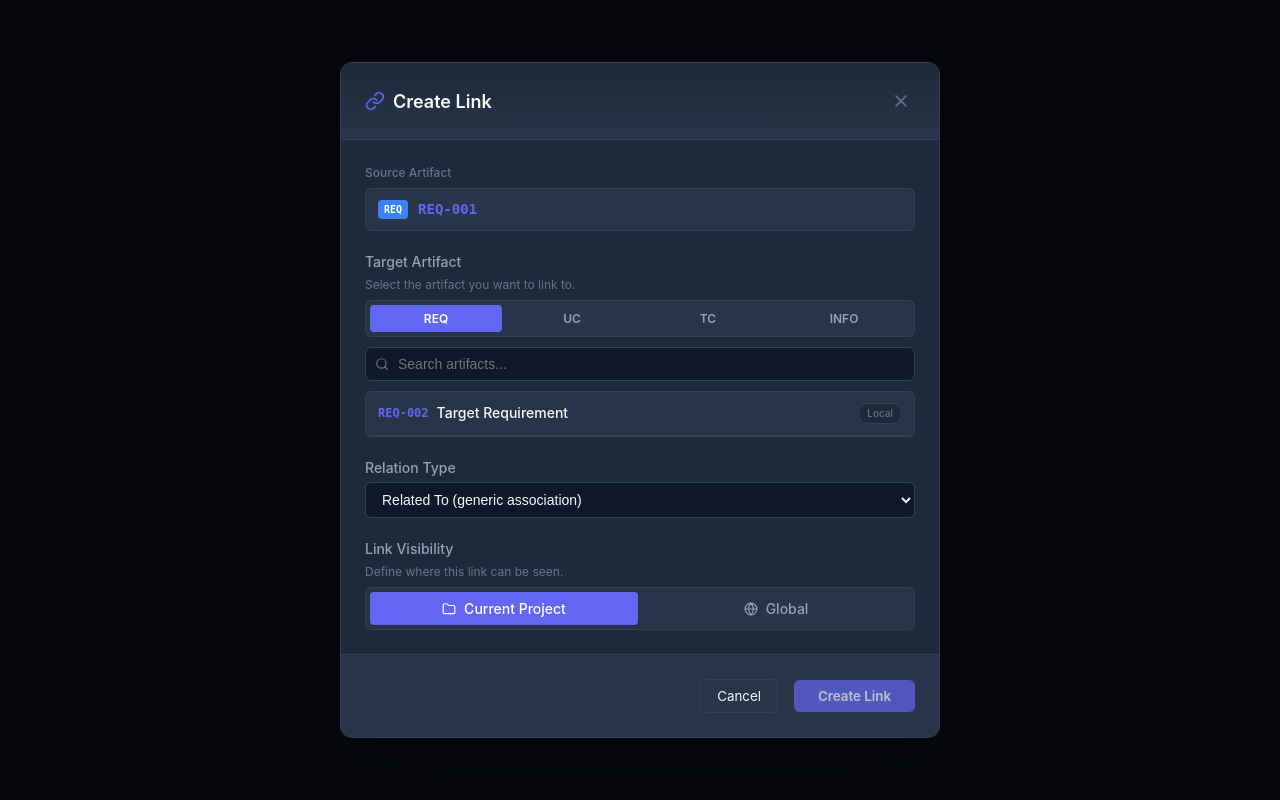
Test: LinkModal › should show use cases when use case type is selected
The image size is (1280, 800).
Button now says "UC" instead of "Use Case"
Click the button "UC" at (572, 318), box 506,305 -> 638,332
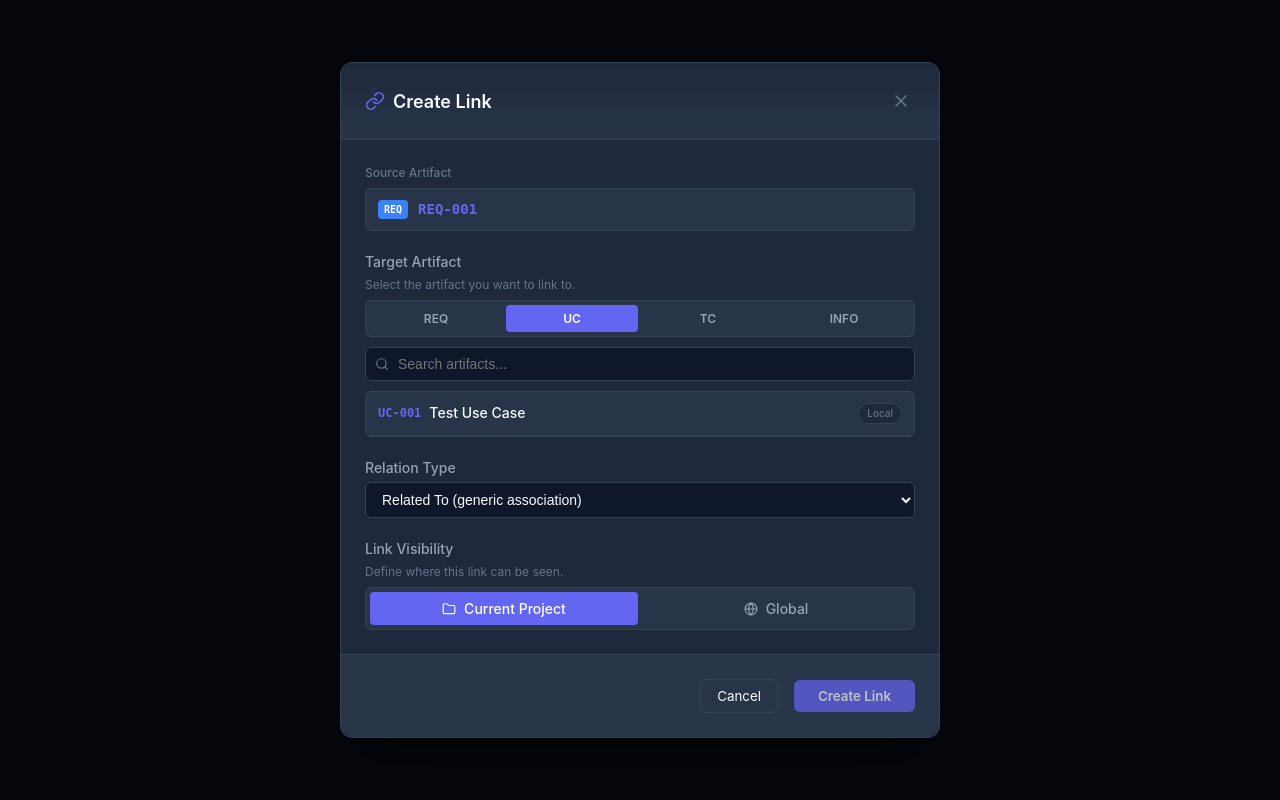
Expected: the text "Test Use Case" is shown, 429,402 -> 526,423
